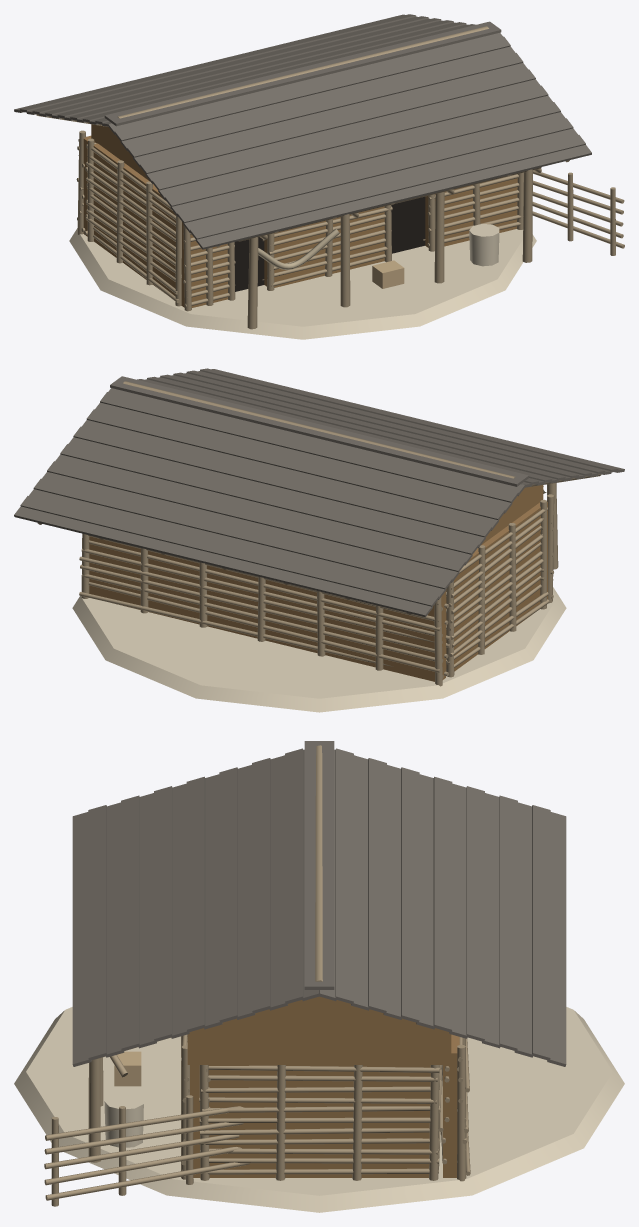
Rendered from bahareque-house-long.glb.
3 renders of one model, top to bottom at view 1: azimuth 30°, elevation 25°; view 2: azimuth 150°, elevation 25°; view 3: azimuth 270°, elevation 25°, orthographic. The views are drawn at different scales.
Visible parts, largest first — view 1: roof_front, ground, roof_back, ridge_cap, wall_left_daub, wall_front_1_daub, interior, wall_left, wall_front_2_daub, fence, wall_front_0, wall_front_0_daub (+16 smaller); view 2: roof_back, ground, roof_front, wall_back_daub, ridge_cap, wall_left_daub, wall_back, wall_left, wall_back_stick_6_o, wall_back_stick_1_o, wall_back_stick_2_o, wall_back_stick_5_o (+12 smaller); view 3: roof_front, roof_back, ground, gable_right, wall_right_daub, ridge_cap, fence, wall_right, ridge_beam, wall_back_daub, drum, wall_right_stick_7_o (+15 smaller).
Part boxes in pixels (box(x1,y1,x2,y2)): roof_front: box(108, 33, 591, 249); ground: box(69, 228, 536, 339); roof_back: box(14, 14, 475, 126); ridge_cap: box(104, 21, 501, 126); wall_left_daub: box(93, 143, 175, 296); wall_front_1_daub: box(264, 206, 384, 287); interior: box(234, 196, 425, 291); wall_left: box(87, 138, 181, 306); wall_front_2_daub: box(425, 177, 517, 247); fence: box(532, 170, 624, 248); wall_front_0: box(183, 225, 235, 311); wall_front_0_daub: box(181, 222, 227, 307); roof_back: box(14, 388, 525, 617); ground: box(72, 587, 566, 712); roof_front: box(137, 368, 624, 487); wall_back_daub: box(89, 536, 445, 681); ridge_cap: box(110, 376, 528, 486); wall_left_daub: box(446, 505, 540, 671); wall_back: box(81, 533, 442, 686); wall_left: box(446, 499, 547, 677); wall_back_stick_6_o: box(88, 540, 441, 631); wall_back_stick_1_o: box(88, 582, 440, 672); wall_back_stick_2_o: box(82, 574, 443, 662); wall_back_stick_5_o: box(81, 548, 442, 636); roof_front: box(72, 748, 320, 1066); roof_back: box(319, 748, 566, 1066); ground: box(14, 1007, 624, 1212); gable_right: box(187, 996, 451, 1064); wall_right_daub: box(208, 1065, 430, 1177); ridge_cap: box(304, 741, 334, 989); fence: box(44, 1106, 249, 1200); wall_right: box(199, 1065, 439, 1180); ridge_beam: box(315, 745, 322, 981); wall_back_daub: box(443, 1034, 459, 1177); drum: box(104, 1092, 143, 1147); wall_right_stick_7_o: box(199, 1097, 436, 1103).
Bounding box in the file's own units: 10.58 × 4.08 × 10.2.
